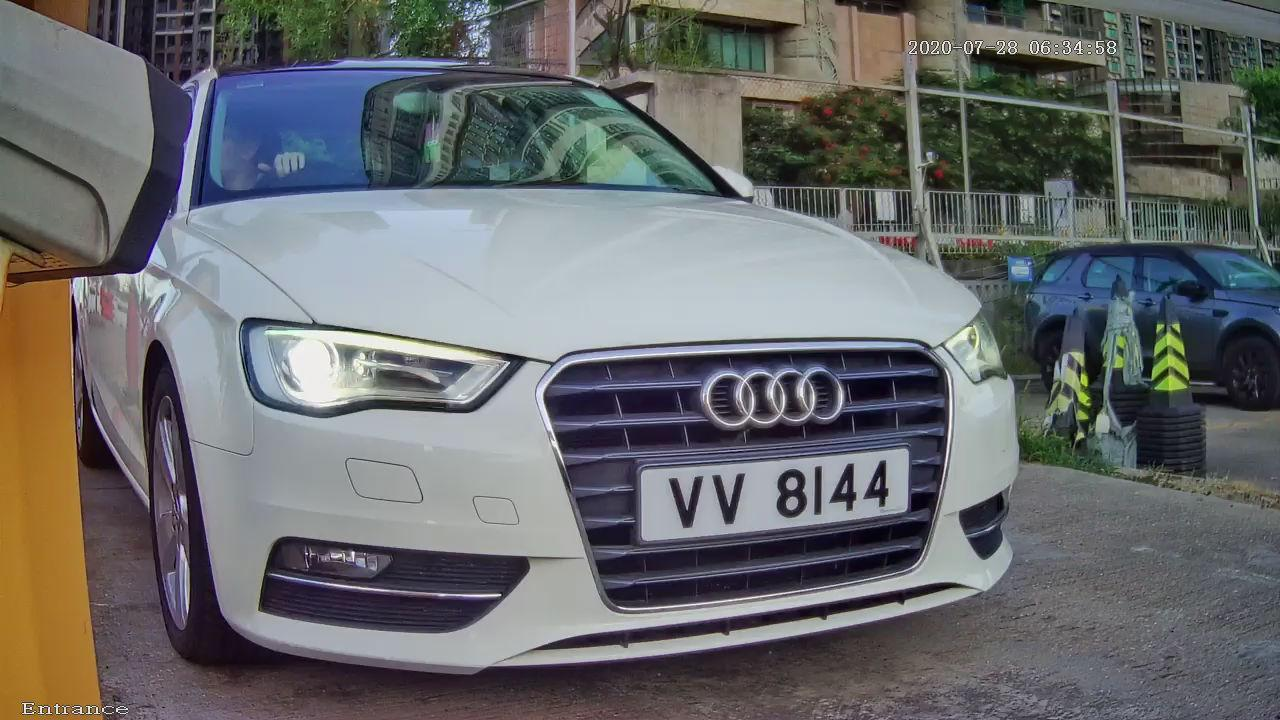privatecar: (63, 7, 1115, 714)
